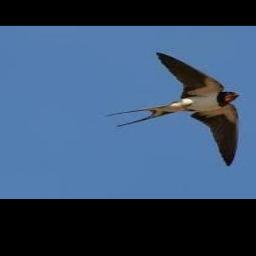Swallow: (106, 52, 243, 167)
